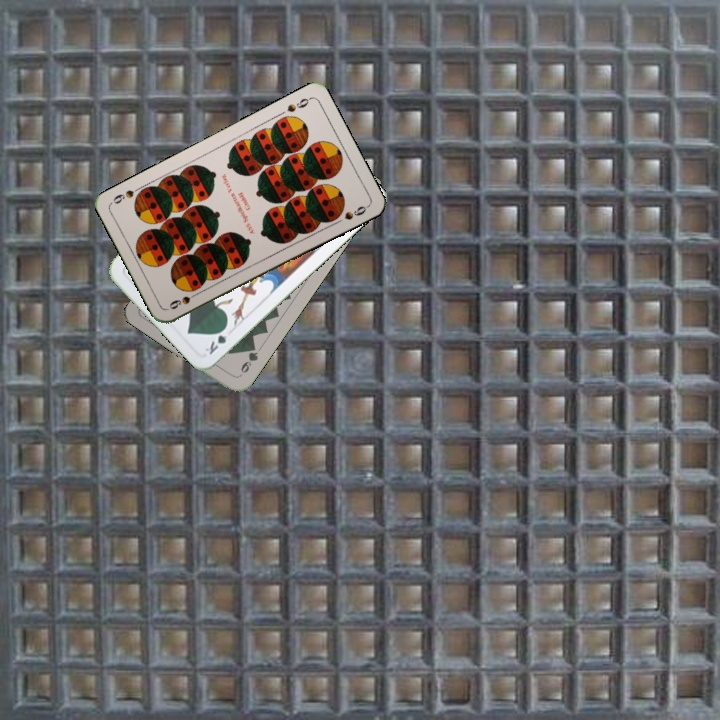G9: (235, 341, 263, 379)
GK: (201, 322, 230, 357)
S9: (165, 288, 203, 312), (283, 93, 313, 115)
